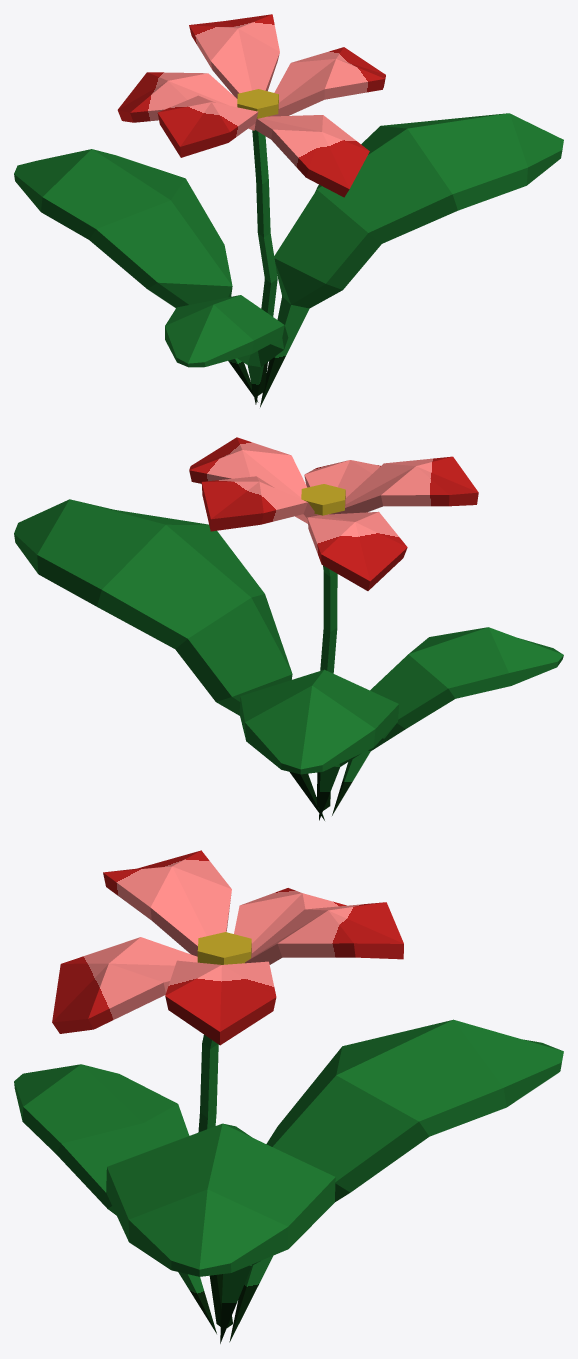
The model's file is flower.glb.
3 views of the same model, one above another, from view 1: azimuth 30°, elevation 25°; view 2: azimuth 150°, elevation 25°; view 3: azimuth 270°, elevation 25° (orthographic). The views are drawn at different scales.
Visible parts, largest first — view 1: flower; view 2: flower; view 3: flower.
Boxes of the visible parts, <box> form: flower: <box>14,14,563,407</box>; flower: <box>14,437,563,820</box>; flower: <box>14,850,563,1343</box>.
Bounding box in the file's own units: 1.13 × 0.8355 × 0.9318.
1 material, 1 textured.
